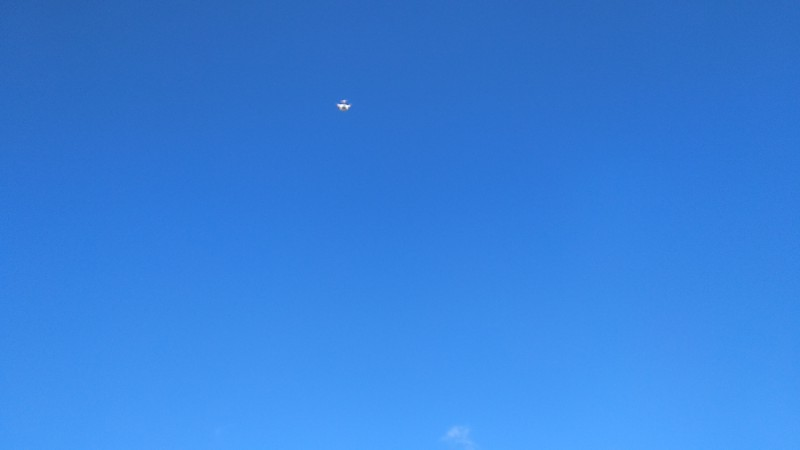drone: (336, 97, 352, 114)
